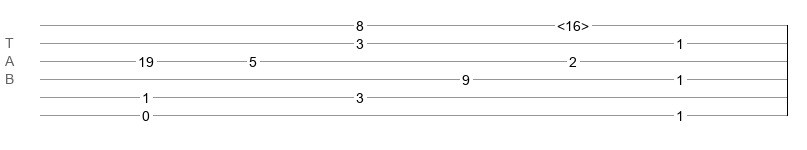0: (142, 108, 150, 118)
1: (142, 90, 150, 100), (676, 36, 684, 46), (676, 108, 684, 118), (676, 72, 684, 82)
19: (138, 54, 154, 64)
2: (569, 54, 577, 64)
3: (356, 90, 364, 100), (356, 36, 364, 46)
5: (249, 54, 257, 64)
8: (356, 18, 364, 28)
9: (462, 72, 470, 82)
harmonic: (557, 18, 589, 28)
